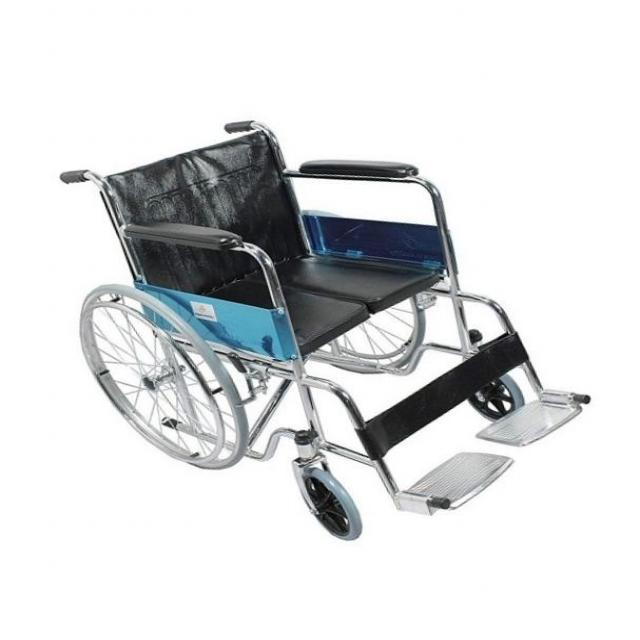wheelchair: (43, 85, 610, 560)
